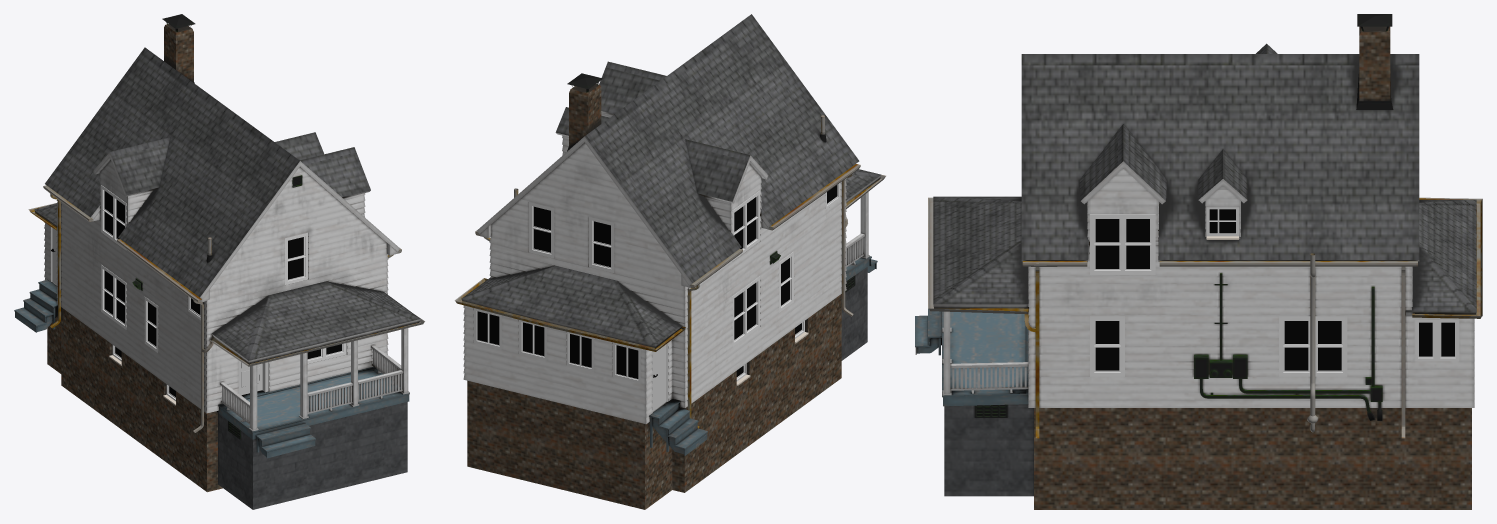
File: americ_an_football_house.glb
3 views of the same model, side by side, from view 1: azimuth 30°, elevation 25°; view 2: azimuth 150°, elevation 25°; view 3: azimuth 270°, elevation 25° (orthographic). The views are drawn at different scales.
Visible parts, largest first — view 1: House; view 2: House; view 3: House.
Boxes of the visible parts, x1,y1,x2,y2 form: House: [14, 14, 424, 509]; House: [454, 14, 885, 509]; House: [915, 14, 1482, 509].
Bounding box in the file's own units: 7.39 × 11.32 × 12.97.
1 material, 1 textured.
